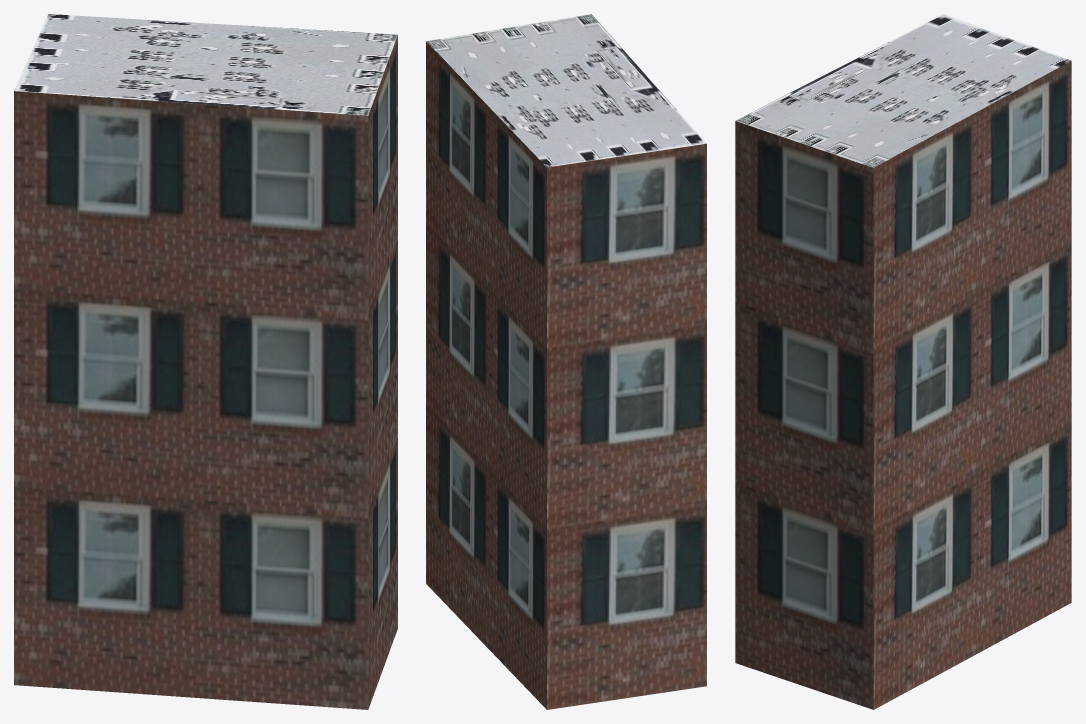
The model's file is ResTex__1151.fbx.
The picture shows the model from 3 angles, left to right: view 1: azimuth 30°, elevation 25°; view 2: azimuth 150°, elevation 25°; view 3: azimuth 270°, elevation 25°; orthographic projection. The views are drawn at different scales.
Visible parts, largest first — view 1: CityEngineMaterial_14_m, CityEngineMaterial_4_m; view 2: CityEngineMaterial_14_m, CityEngineMaterial_4_m; view 3: CityEngineMaterial_14_m, CityEngineMaterial_4_m.
Part boxes in pixels (left/top/right/bottom): CityEngineMaterial_14_m: left=14, top=35, right=397, bottom=709; CityEngineMaterial_4_m: left=14, top=14, right=397, bottom=115; CityEngineMaterial_14_m: left=426, top=41, right=706, bottom=709; CityEngineMaterial_4_m: left=426, top=14, right=706, bottom=167; CityEngineMaterial_14_m: left=735, top=61, right=1071, bottom=709; CityEngineMaterial_4_m: left=735, top=14, right=1071, bottom=167.
Size of the model in its own units: 5.48 by 9 by 5.06.
2 materials, 2 textured.
